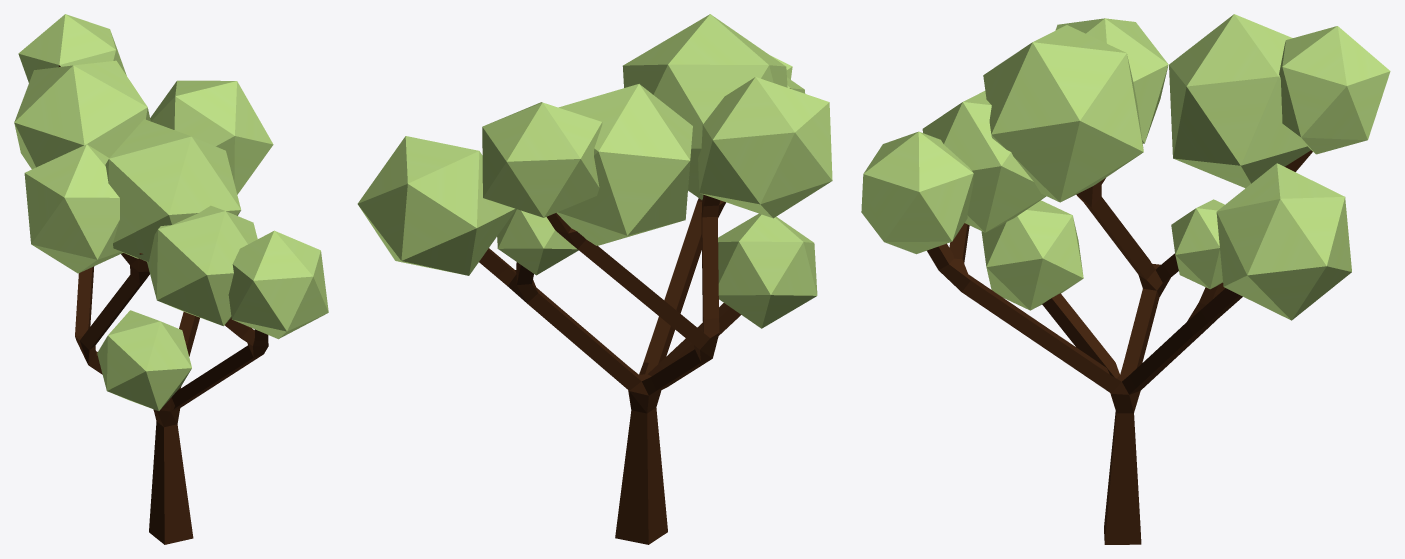
File: tree_1.fbx
The picture shows the model from 3 angles, left to right: view 1: azimuth 30°, elevation 25°; view 2: azimuth 150°, elevation 25°; view 3: azimuth 270°, elevation 25°; orthographic projection. The views are drawn at different scales.
Parts seen in each view (by area): view 1: Icosphere.007; view 2: Icosphere.007; view 3: Icosphere.007.
Boxes of the visible parts, x1,y1,x2,y2 form: Icosphere.007: [14, 14, 328, 544]; Icosphere.007: [357, 14, 832, 544]; Icosphere.007: [861, 14, 1390, 544].
Bounding box in the file's own units: 565 × 785 × 744.
